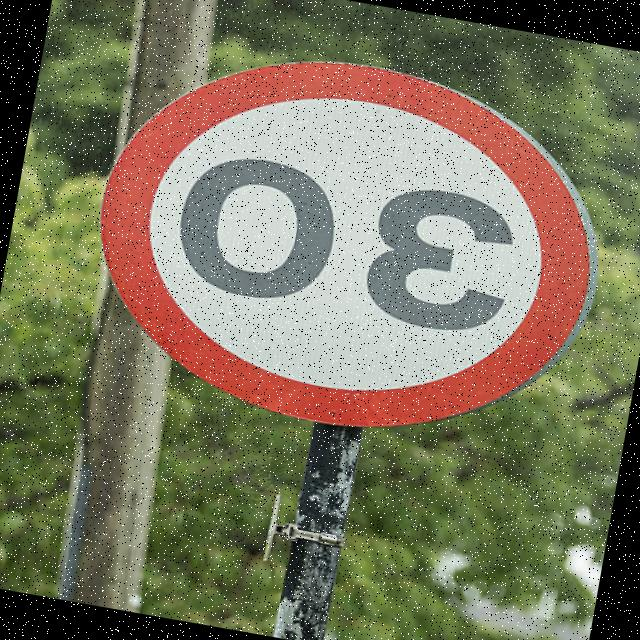speed_limit_30: (58, 16, 633, 474)
